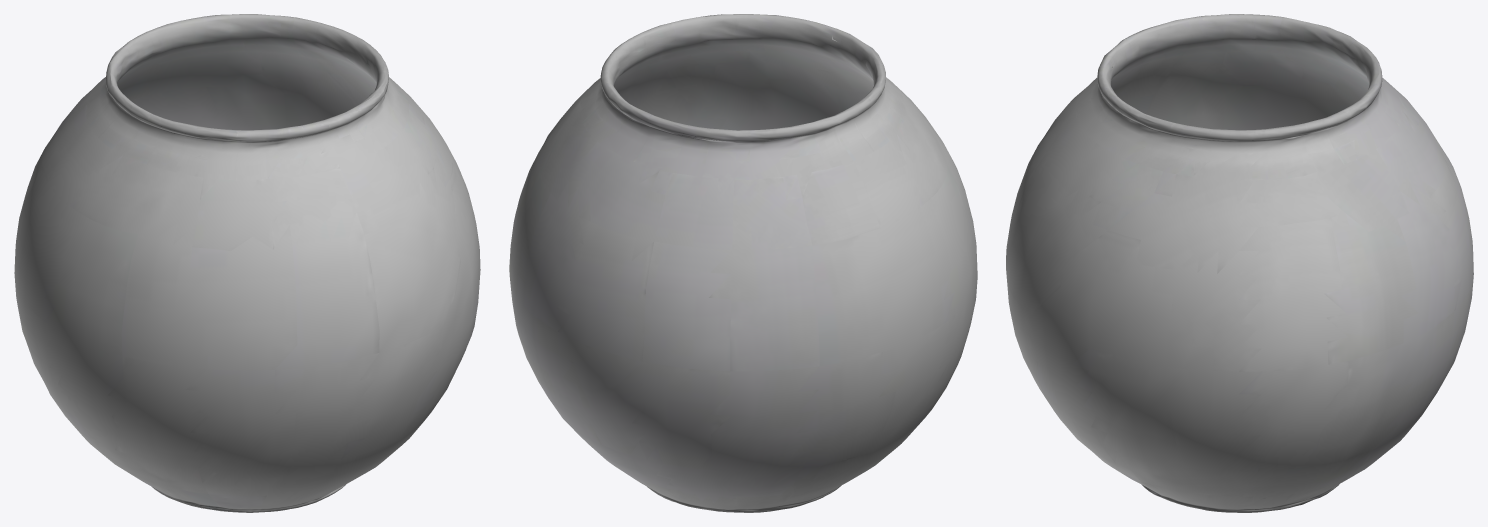
File: bowl.glb
The picture shows the model from 3 angles, left to right: view 1: azimuth 30°, elevation 25°; view 2: azimuth 150°, elevation 25°; view 3: azimuth 270°, elevation 25°; orthographic projection.
Parts seen in each view (by area): view 1: midway-fit; view 2: midway-fit; view 3: midway-fit.
Boxes of the visible parts, x1,y1,x2,y2 form: midway-fit: (14, 14, 480, 512); midway-fit: (509, 14, 977, 512); midway-fit: (1006, 14, 1473, 512).
Bounding box in the file's own units: 1 × 0.9357 × 0.999.
1 material, 1 textured.
